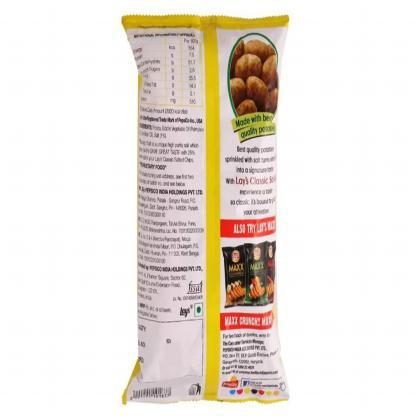classicsalted: (120, 13, 289, 405)
